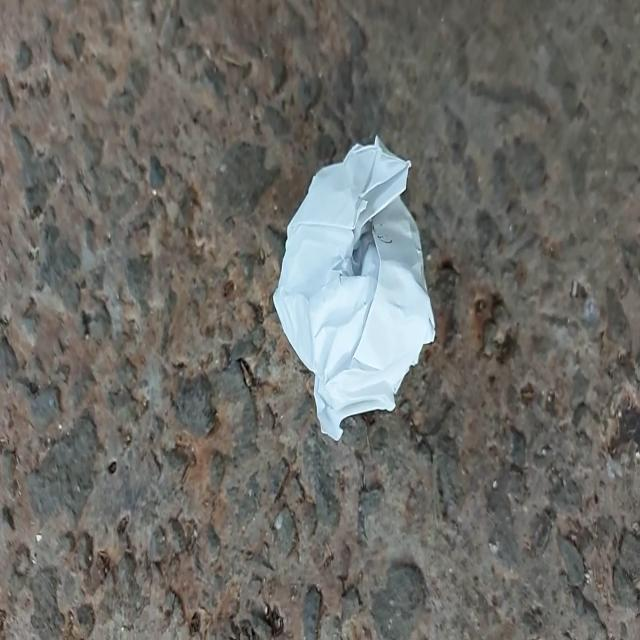Paper: (261, 113, 454, 450)
